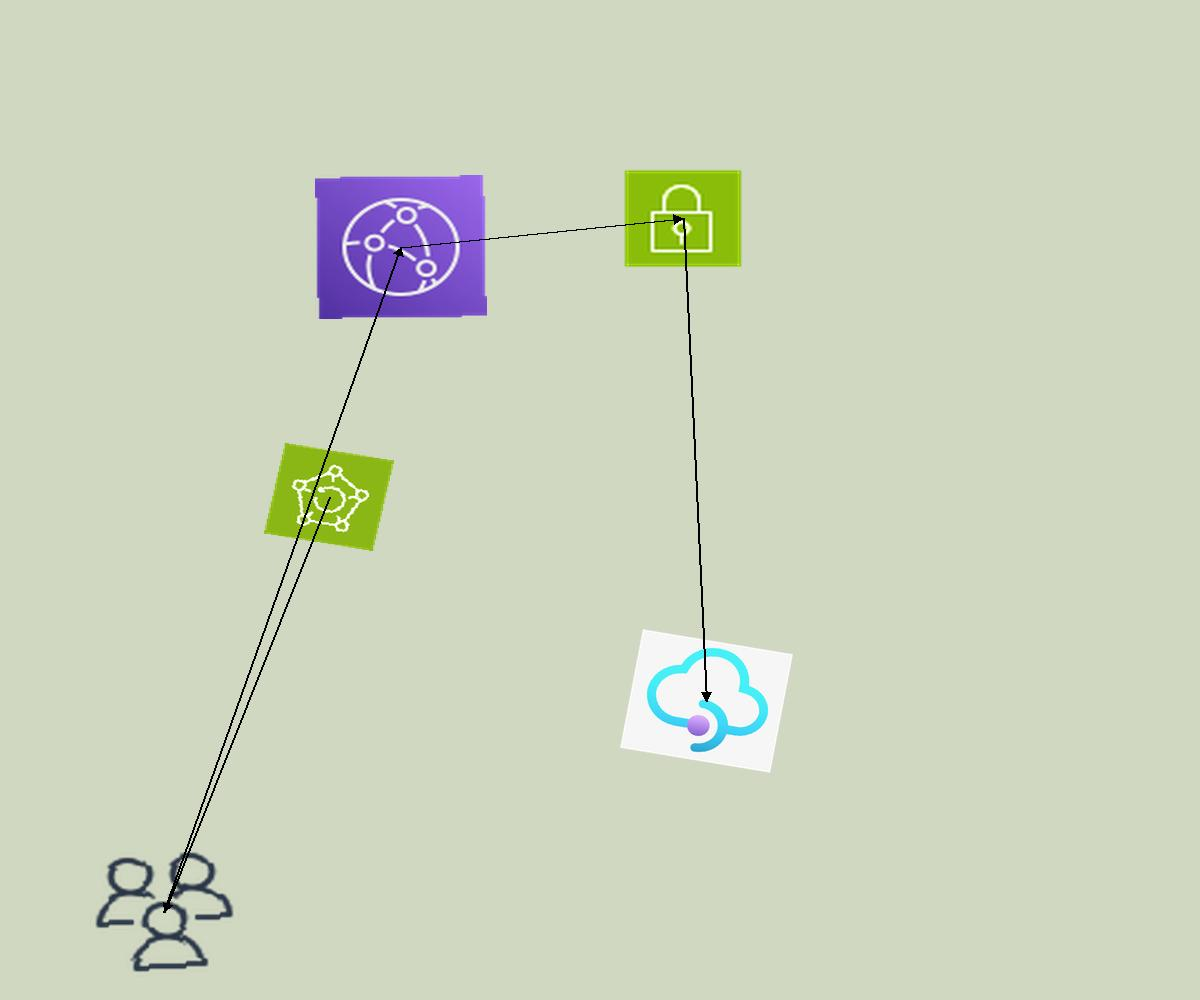AWS-Backup: (264, 443, 394, 551)
AWS-CloudFront: (315, 175, 487, 319)
AWS-Public-subnet: (622, 168, 744, 269)
AWS-Res_Users: (84, 845, 245, 979)
Azure_api_gateway: (620, 629, 793, 773)
